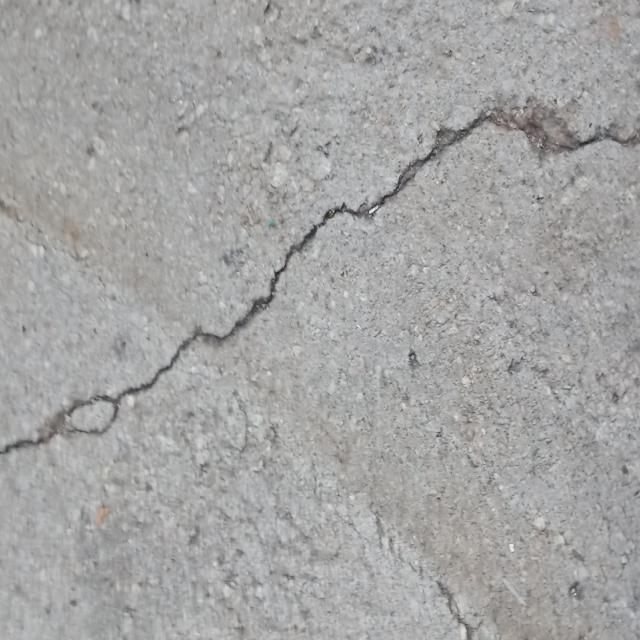SurfaceCrack: (0, 40, 639, 546)
